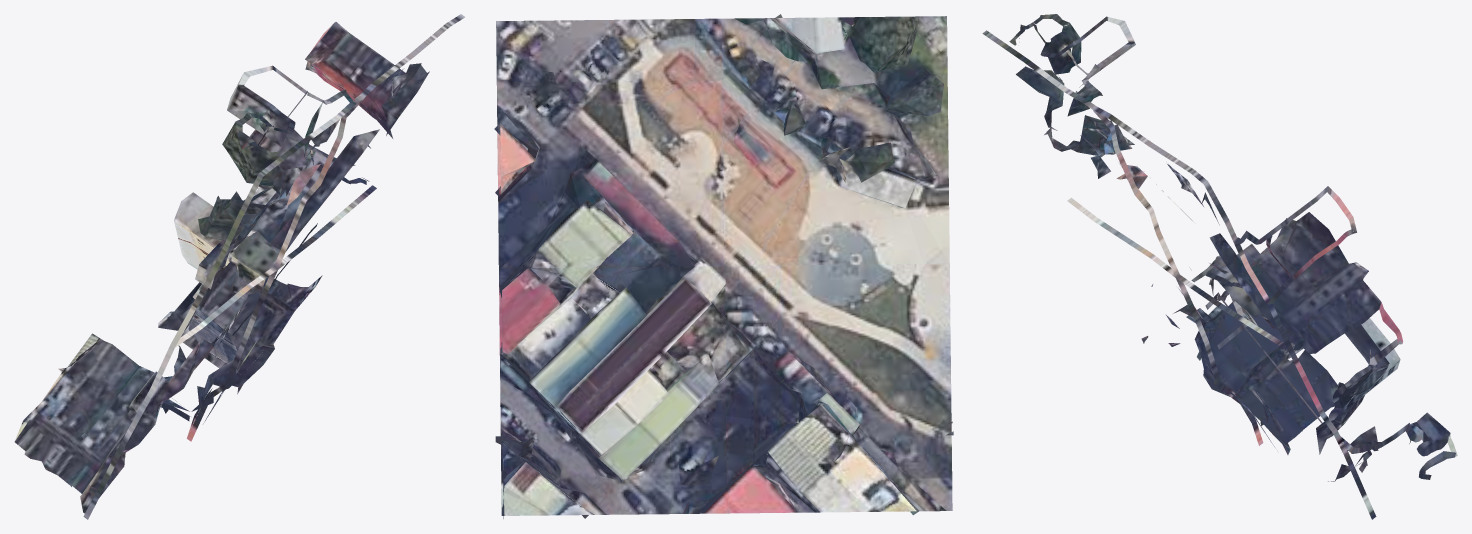
3 views of the same model, side by side, from view 1: azimuth 30°, elevation 25°; view 2: azimuth 150°, elevation 25°; view 3: azimuth 270°, elevation 25° (orthographic). The views are drawn at different scales.
Bounding box in the file's own units: 79.96 × 75.88 × 78.22.
2 materials, 2 textured.
